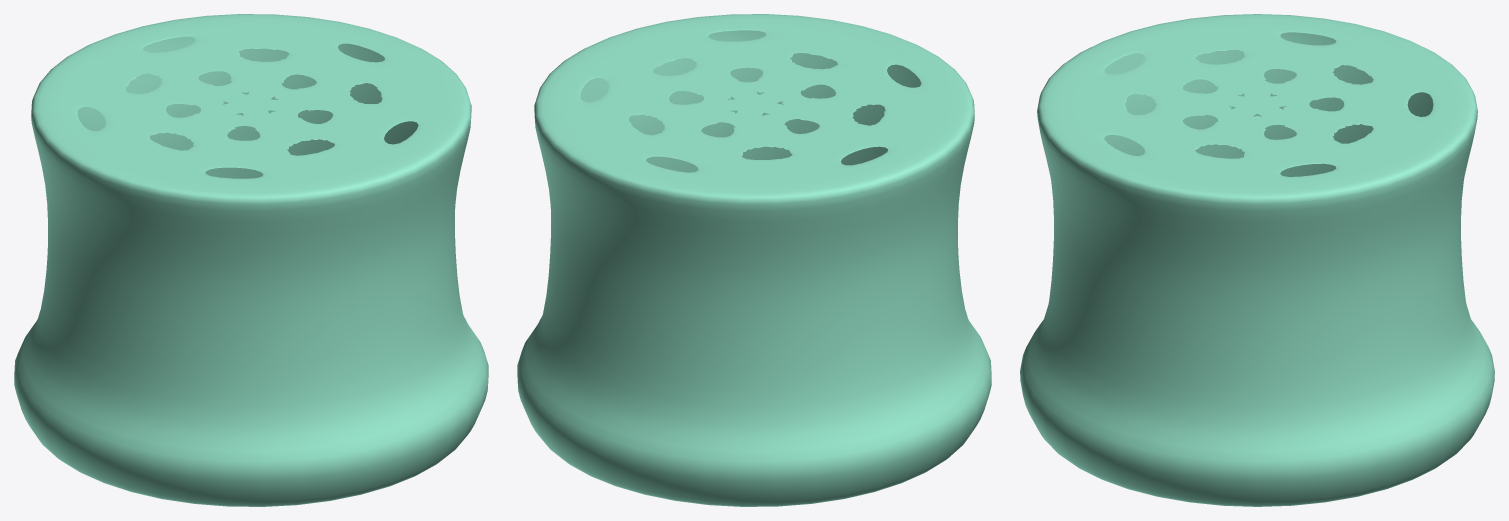
Rendered from uploads_files_1923420_Salt+Shakers_Cap4.FBX.
3 renders of one model, left to right at view 1: azimuth 30°, elevation 25°; view 2: azimuth 150°, elevation 25°; view 3: azimuth 270°, elevation 25°, orthographic.
Visible parts, largest first — view 1: uploads_files_1923420_Salt+Shakers_Cap4; view 2: uploads_files_1923420_Salt+Shakers_Cap4; view 3: uploads_files_1923420_Salt+Shakers_Cap4.
Boxes of the visible parts, bbox=[...] form: uploads_files_1923420_Salt+Shakers_Cap4: bbox=[14, 14, 488, 506]; uploads_files_1923420_Salt+Shakers_Cap4: bbox=[517, 14, 991, 506]; uploads_files_1923420_Salt+Shakers_Cap4: bbox=[1020, 14, 1494, 506].
Size of what is drawn, in the model's own units: 1.31 by 1.31 by 0.952.
